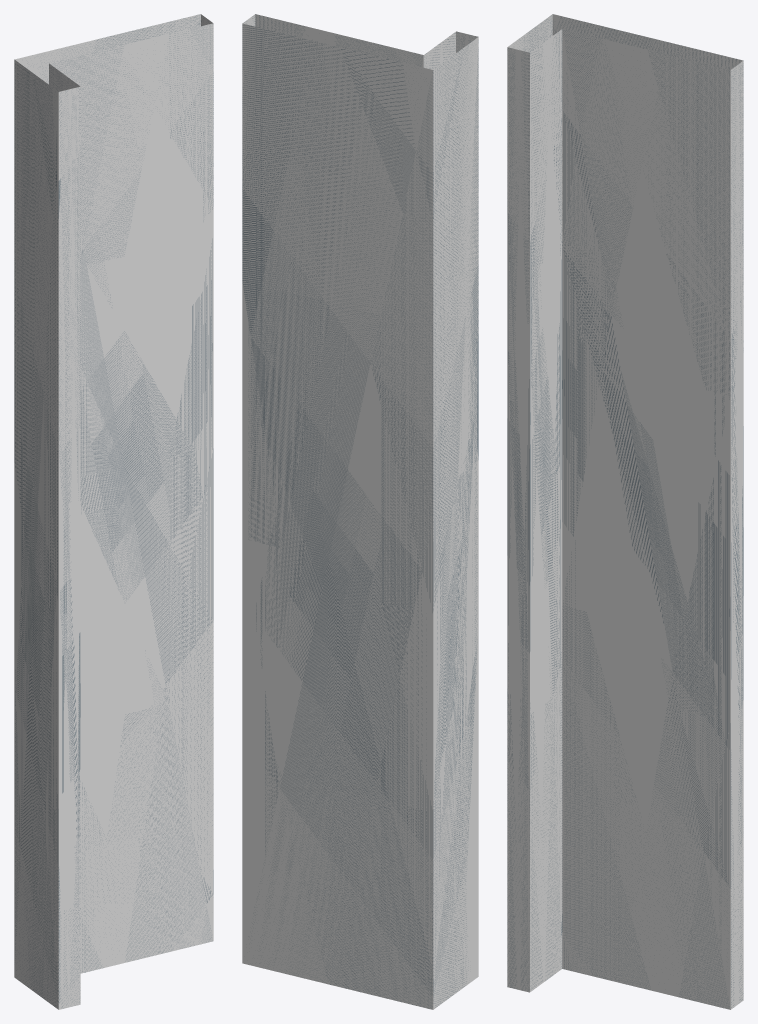
Rendered from PW_CornerFixElem_ds_T3_035x085x010x400.dae.
3 views of the same model, side by side, from view 1: azimuth 30°, elevation 25°; view 2: azimuth 150°, elevation 25°; view 3: azimuth 330°, elevation 25° (orthographic). The views are drawn at different scales.
Parts seen in each view (by area): view 1: group_0; view 2: group_0; view 3: group_0.
Boxes of the visible parts, x1,y1,x2,y2 form: group_0: [14, 14, 213, 1009]; group_0: [242, 14, 478, 1009]; group_0: [507, 14, 743, 1009].
Size of the model in its own units: 33.46 by 13.78 by 157.
